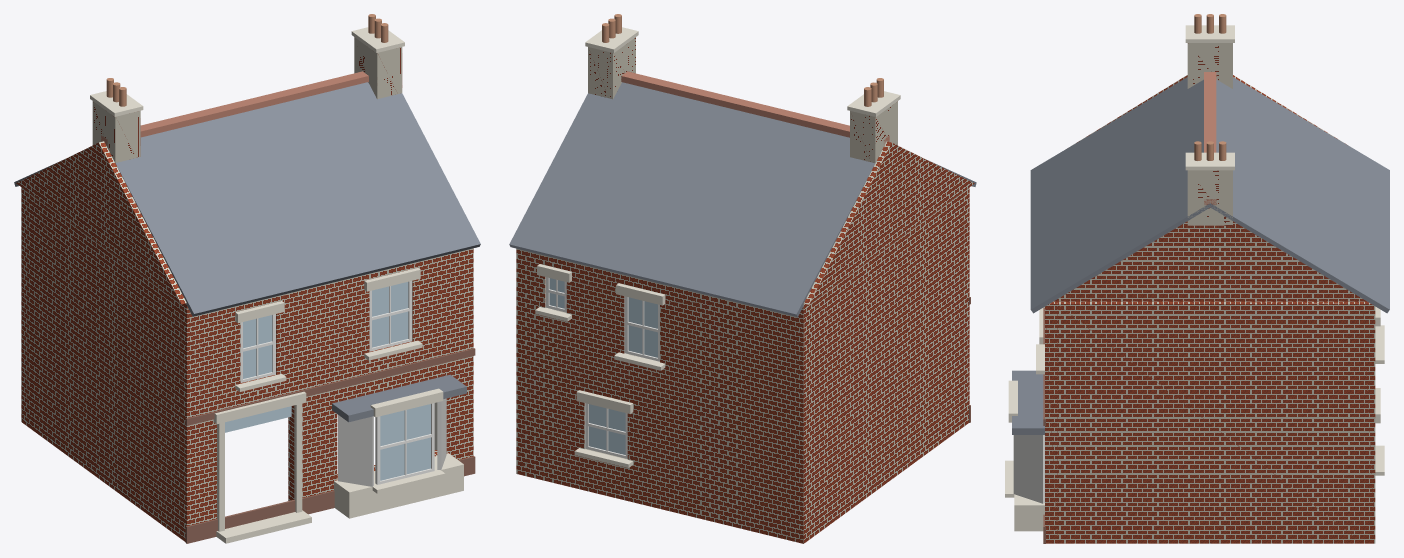
The model's file is terrace.glb.
3 views of the same model, side by side, from view 1: azimuth 30°, elevation 25°; view 2: azimuth 150°, elevation 25°; view 3: azimuth 270°, elevation 25° (orthographic).
Visible parts, largest first — view 1: shell, roof, glass; view 2: shell, roof, glass; view 3: shell, roof.
Part boxes in pixels (x1,y1,x2,y2): shell: [21, 187, 475, 543]; roof: [14, 14, 480, 316]; glass: [225, 282, 430, 480]; shell: [516, 187, 970, 543]; roof: [509, 14, 976, 317]; glass: [549, 278, 657, 454]; shell: [1005, 301, 1384, 543]; roof: [1030, 14, 1389, 313].
Bounding box in the file's own units: 8.2 × 10.55 × 9.32.
9 materials, 1 textured.
